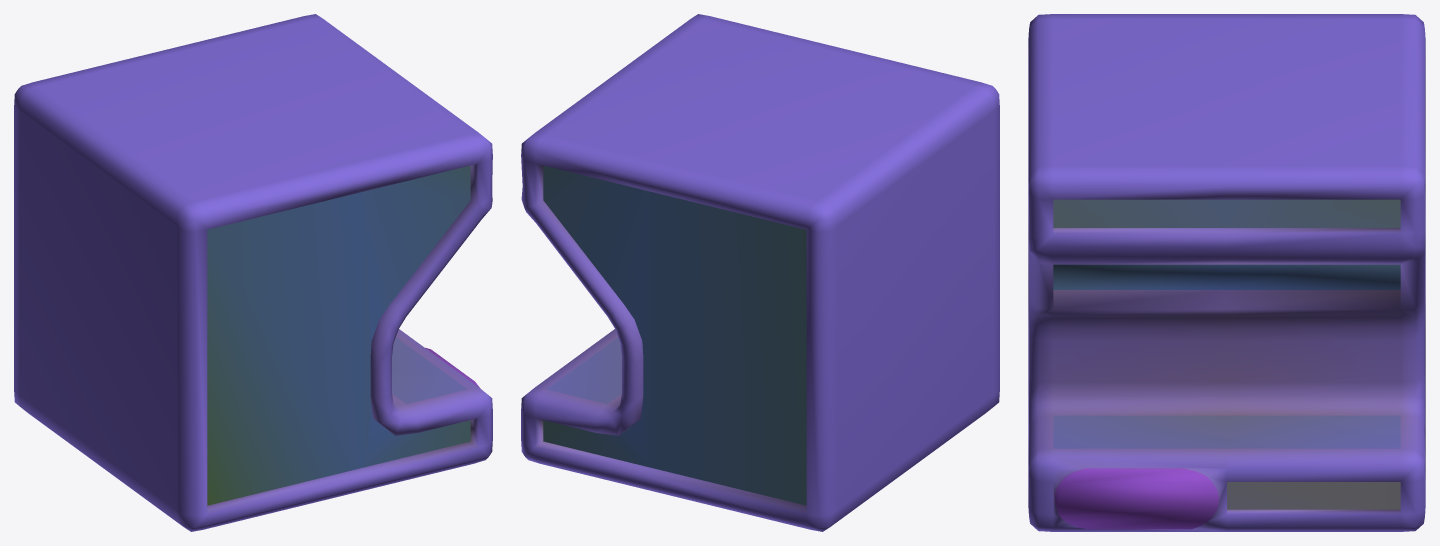
The model's file is vertex-pipeline.gltf.
3 views of the same model, side by side, from view 1: azimuth 30°, elevation 25°; view 2: azimuth 150°, elevation 25°; view 3: azimuth 270°, elevation 25° (orthographic). The views are drawn at different scales.
Parts seen in each view (by area): view 1: Cube; view 2: Cube; view 3: Cube.
Part boxes in pixels (x1=…): Cube: x1=14, y1=14, x2=492, y2=531; Cube: x1=521, y1=14, x2=999, y2=531; Cube: x1=1028, y1=14, x2=1425, y2=531.
Bounding box in the file's own units: 2.02 × 2 × 2.
